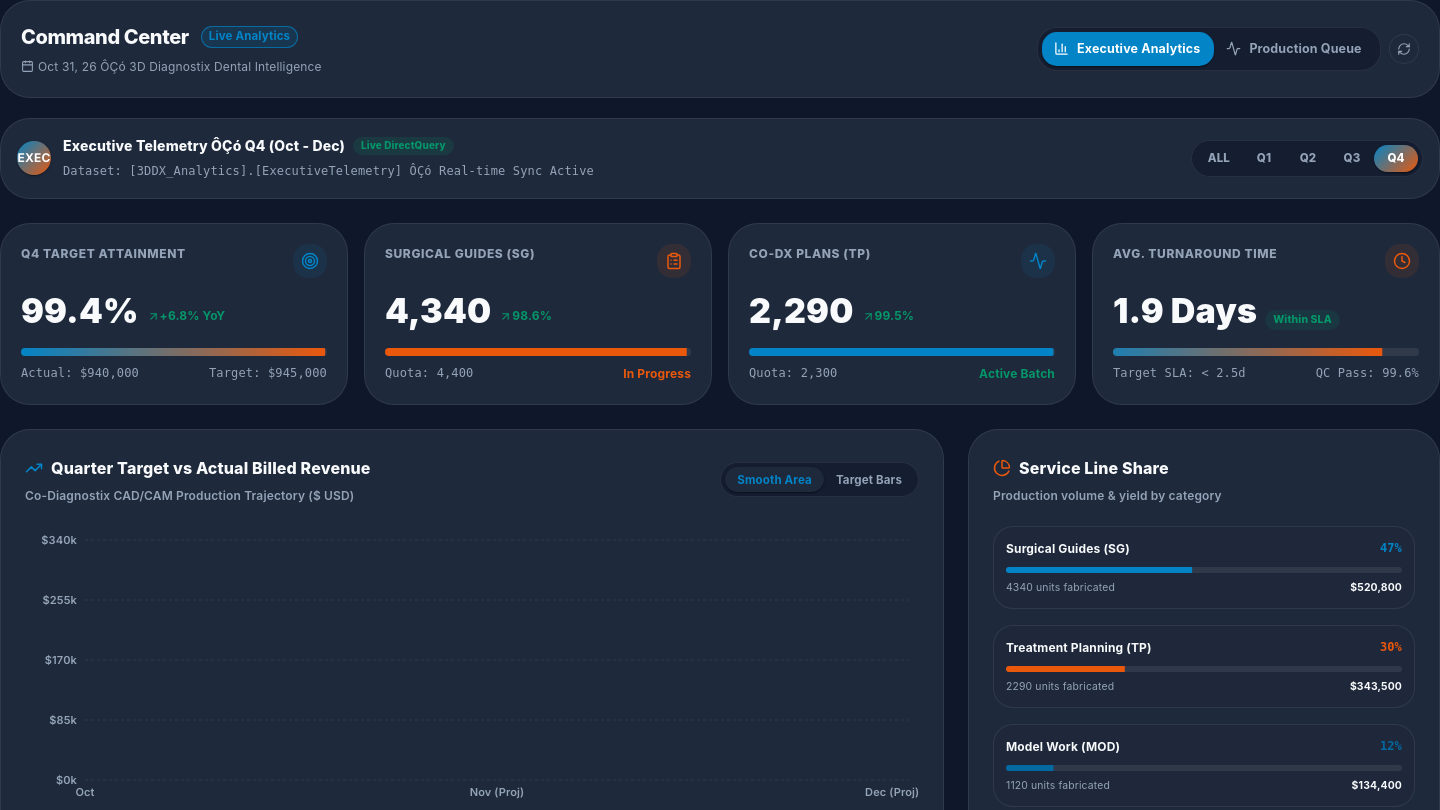
Dashboard CRM Modernization (UIUX-REQ-006) › CRM Dashboard Modernization & Views › handles empty orders state gracefully
This screenshot has width=1440, height=810.
Click the button "Production Queue" at (1295, 49), box [1214,32,1376,66]
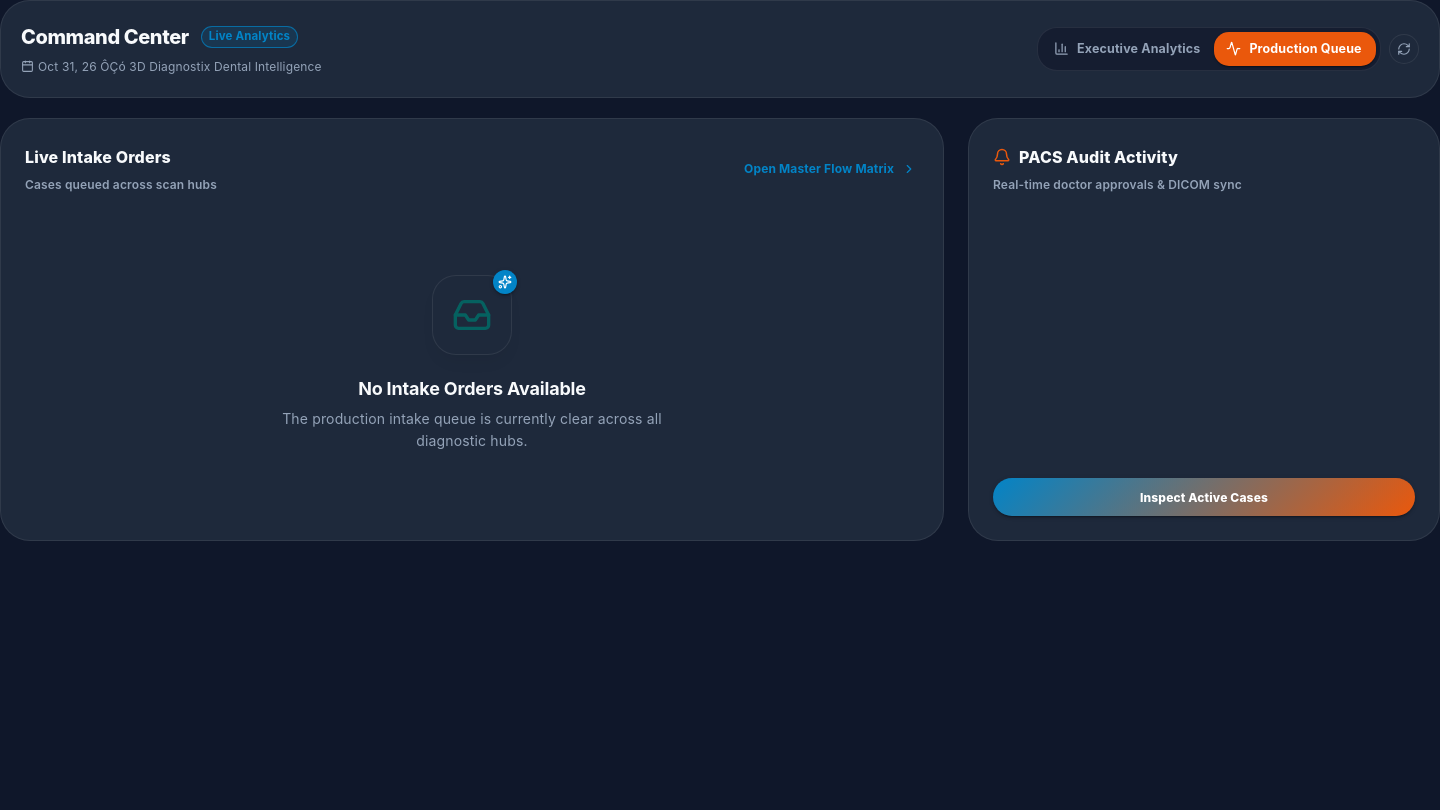
Expected: the heading "No Intake Orders Available" is shown, [358,378,586,399]
